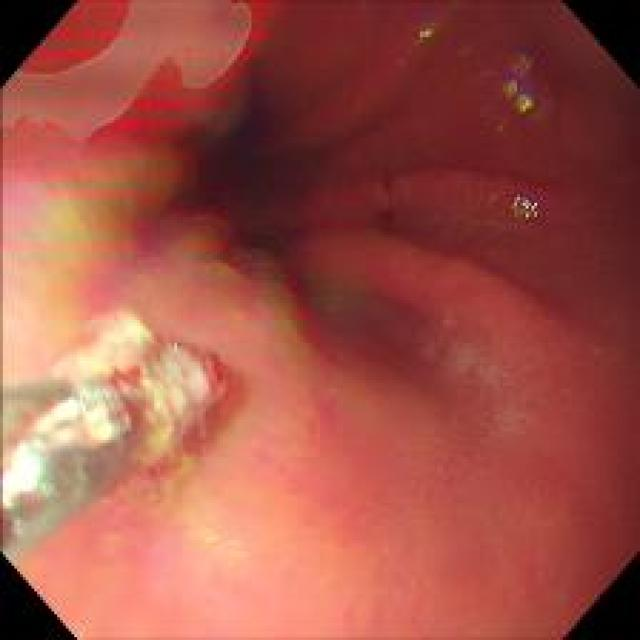blur: (155, 142, 475, 461), (1, 332, 228, 560)
bubbles: (446, 349, 475, 382), (474, 365, 500, 392)
color misalignment: (0, 156, 150, 318), (215, 246, 341, 356), (484, 50, 551, 125), (501, 176, 548, 228), (404, 2, 445, 49)
contrast: (194, 111, 359, 279)
instrument: (0, 334, 229, 560)
